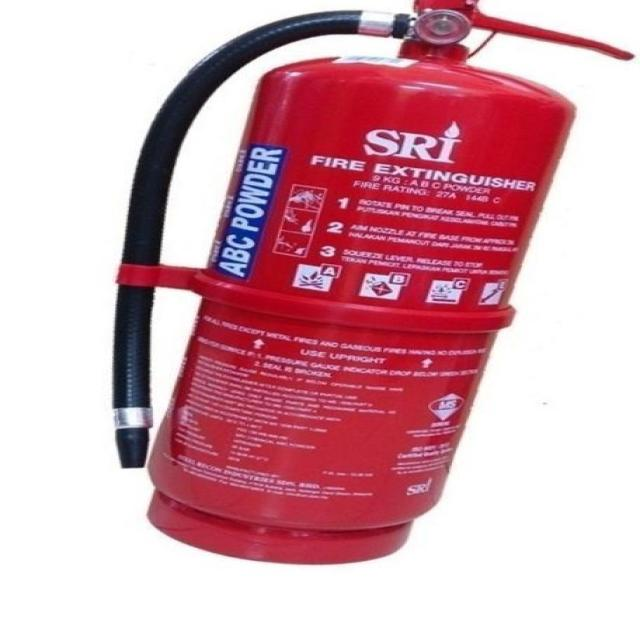fire_extinguisher: (98, 0, 639, 570)
